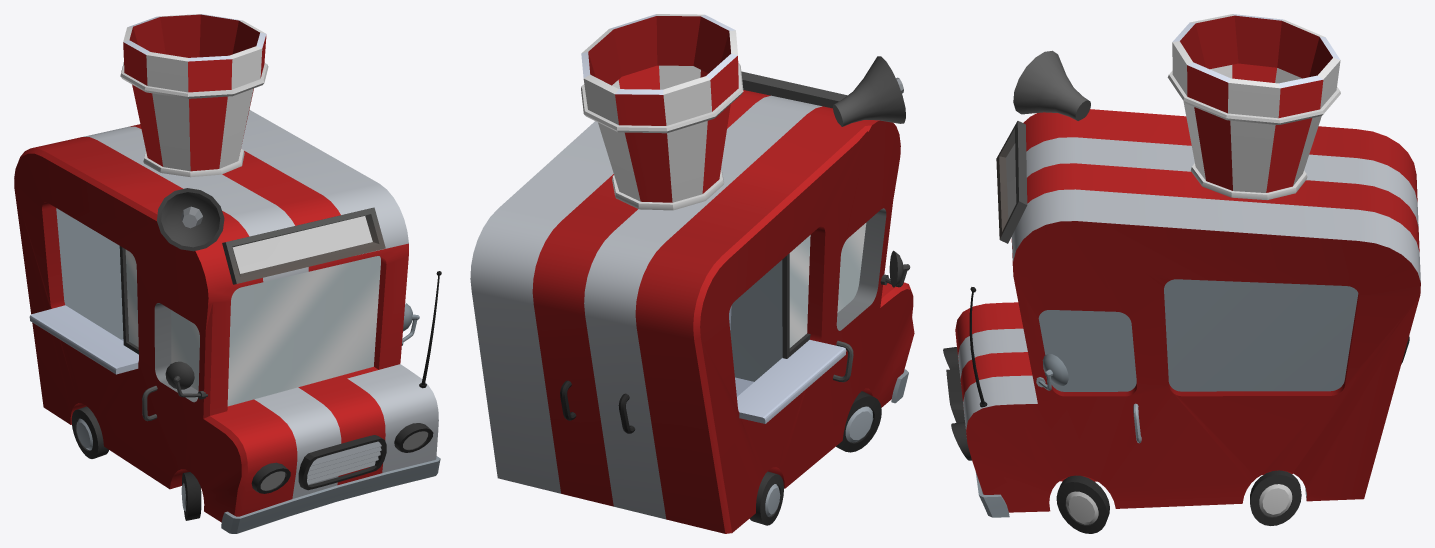
File: SM_Veh_Food_Trailer_04.fbx
3 renders of one model, left to right at view 1: azimuth 30°, elevation 25°; view 2: azimuth 150°, elevation 25°; view 3: azimuth 270°, elevation 25°, orthographic. The views are drawn at different scales.
Parts seen in each view (by area): view 1: 6; view 2: 6; view 3: 6.
Part boxes in pixels (x1,y1,x2,y2): 6: (14,14,441,533); 6: (470,14,914,533); 6: (943,14,1420,533).
Size of the model in its own units: 272 by 409 by 406.
